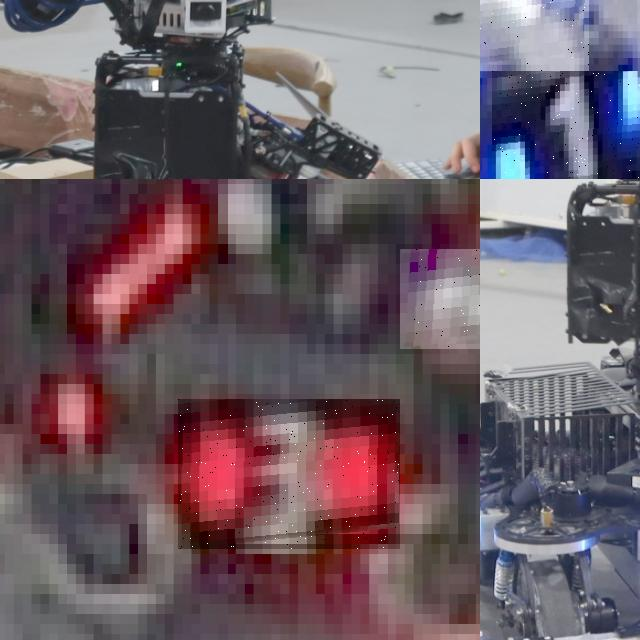B1: (492, 71, 640, 179), (480, 0, 588, 71)
R3: (178, 399, 400, 549), (400, 249, 480, 349)
